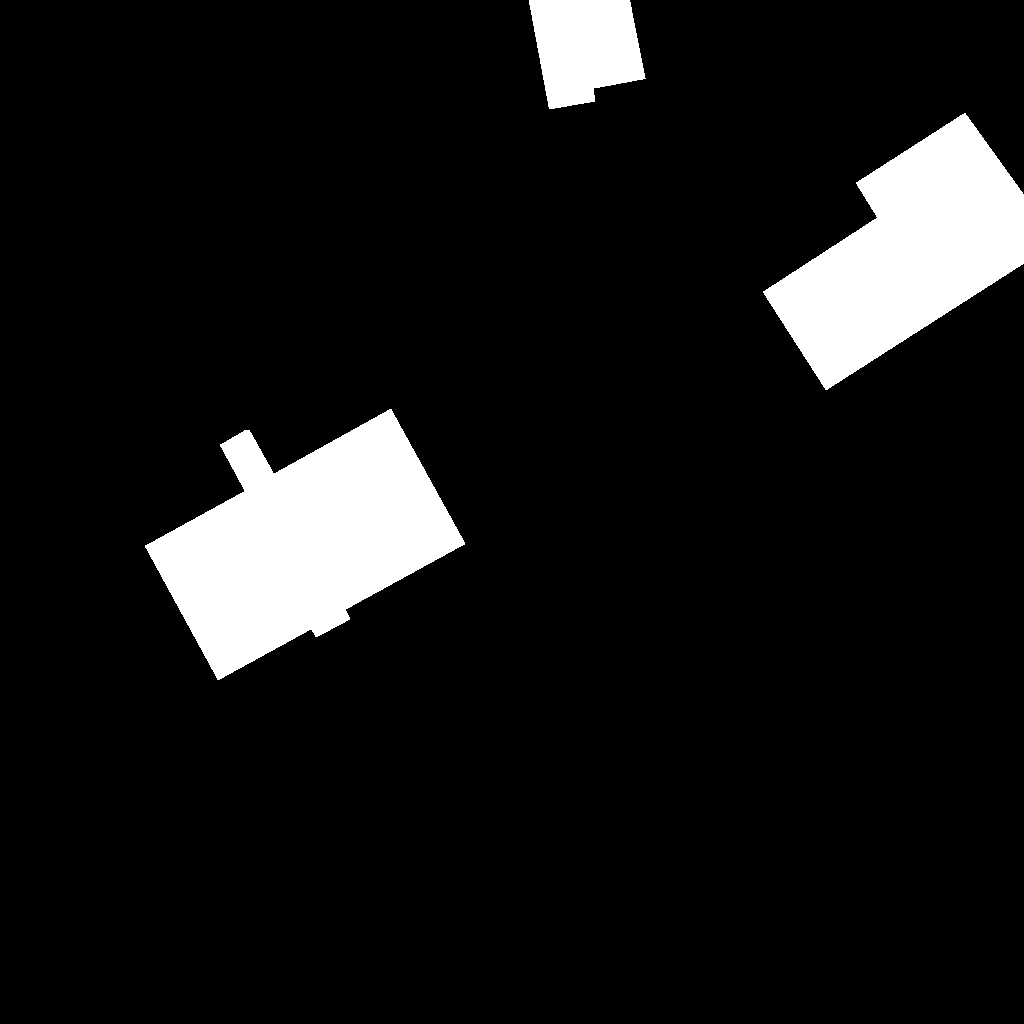building: (145, 409, 466, 681), (763, 113, 1024, 391), (529, 0, 646, 110)
